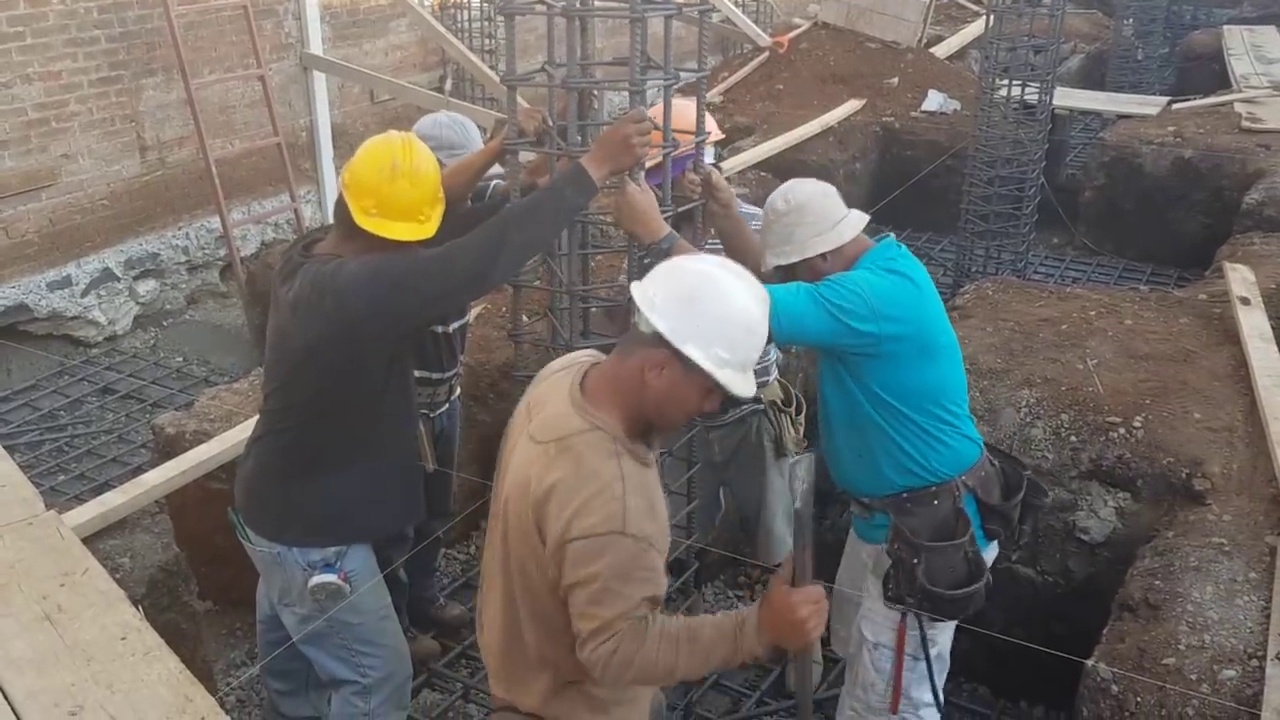helmet: (632, 254, 774, 412), (337, 130, 447, 242), (636, 98, 722, 154)
helmet-off: (760, 177, 889, 289), (413, 106, 485, 203)
helmet-on: (573, 244, 774, 460), (306, 130, 453, 261)
person: (230, 111, 655, 720), (627, 167, 1005, 716), (470, 246, 826, 720), (637, 101, 824, 688), (378, 100, 535, 669)
